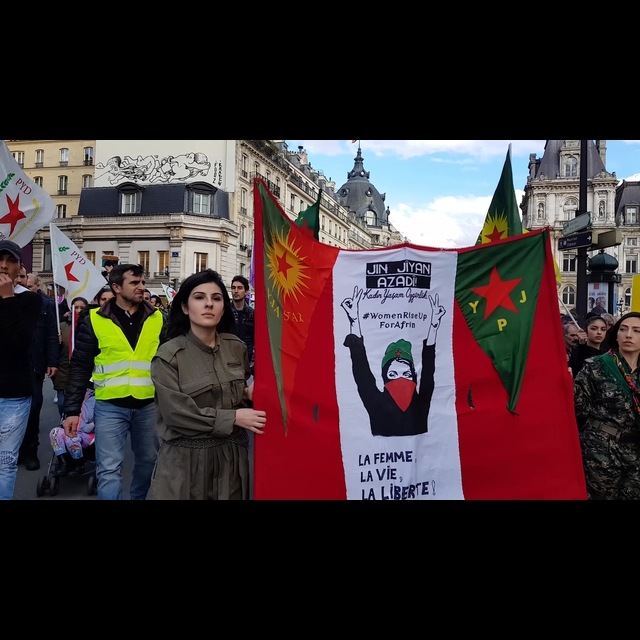KCK: (465, 210, 515, 239)
PYD: (1, 161, 44, 239), (51, 242, 91, 284)
YPJ: (470, 264, 532, 342)
